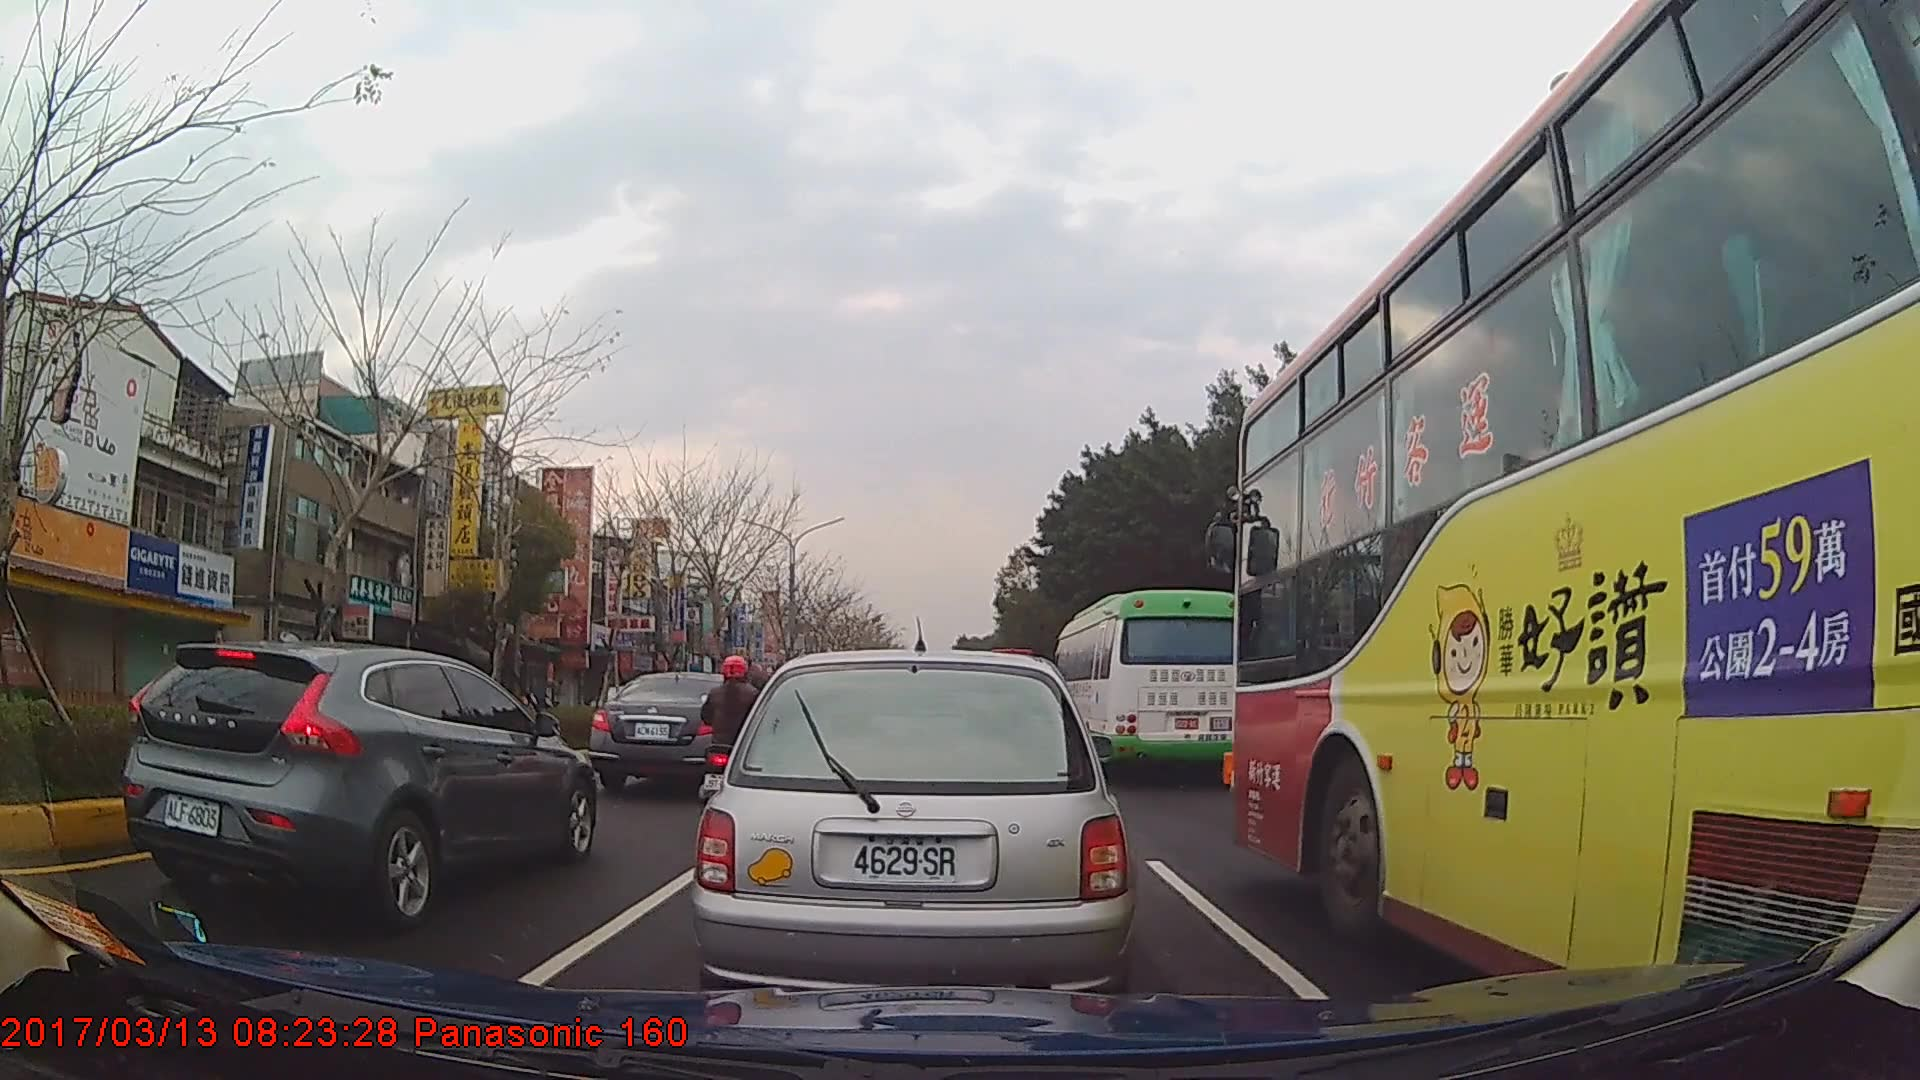rider: (699, 653, 775, 824)
vehicle: (1230, 0, 1920, 1006), (691, 644, 1134, 1008), (118, 639, 598, 930), (1048, 588, 1242, 780), (592, 670, 763, 794)
